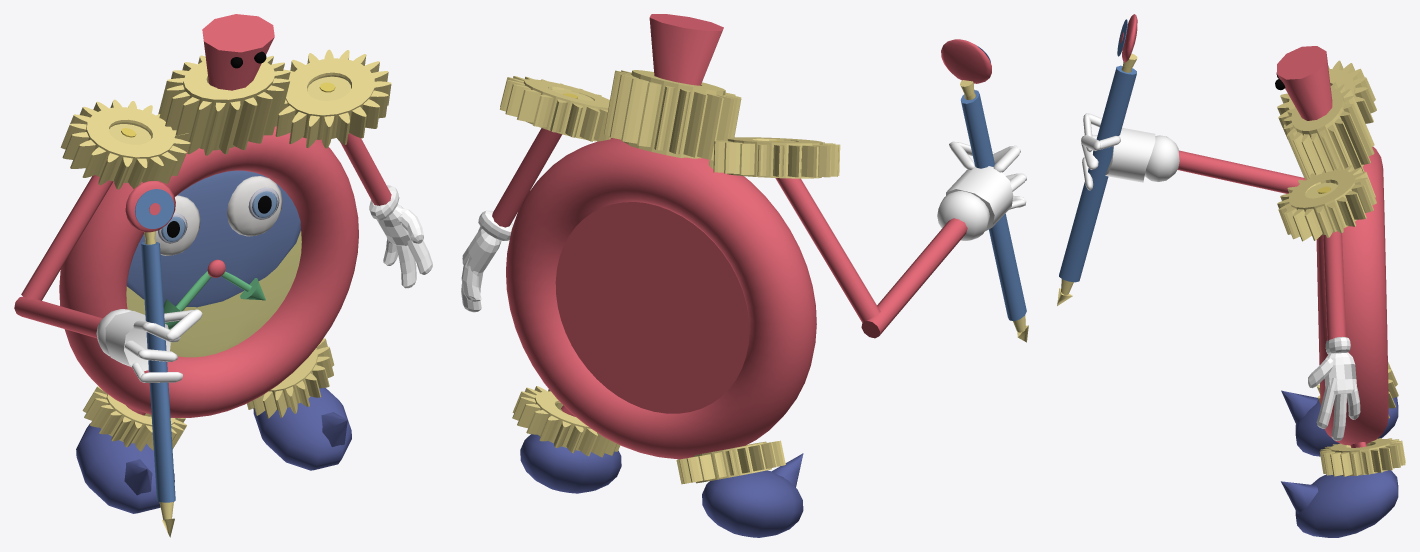
Rendered from timeMagician.fbx.
The picture shows the model from 3 angles, left to right: view 1: azimuth 30°, elevation 25°; view 2: azimuth 150°, elevation 25°; view 3: azimuth 270°, elevation 25°; orthographic projection. The views are drawn at different scales.
Parts seen in each view (by area): view 1: 057_Torus; view 2: 057_Torus; view 3: 057_Torus.
Part boxes in pixels (x1=…): 057_Torus: x1=14, y1=14, x2=432, y2=537; 057_Torus: x1=461, y1=14, x2=1028, y2=537; 057_Torus: x1=1057, y1=14, x2=1405, y2=537.
Size of the model in its own units: 4084 by 4346 by 3145.
